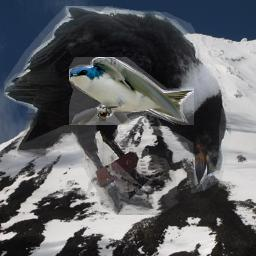Crow: (4, 6, 231, 215)
Swallow: (69, 57, 194, 125)
